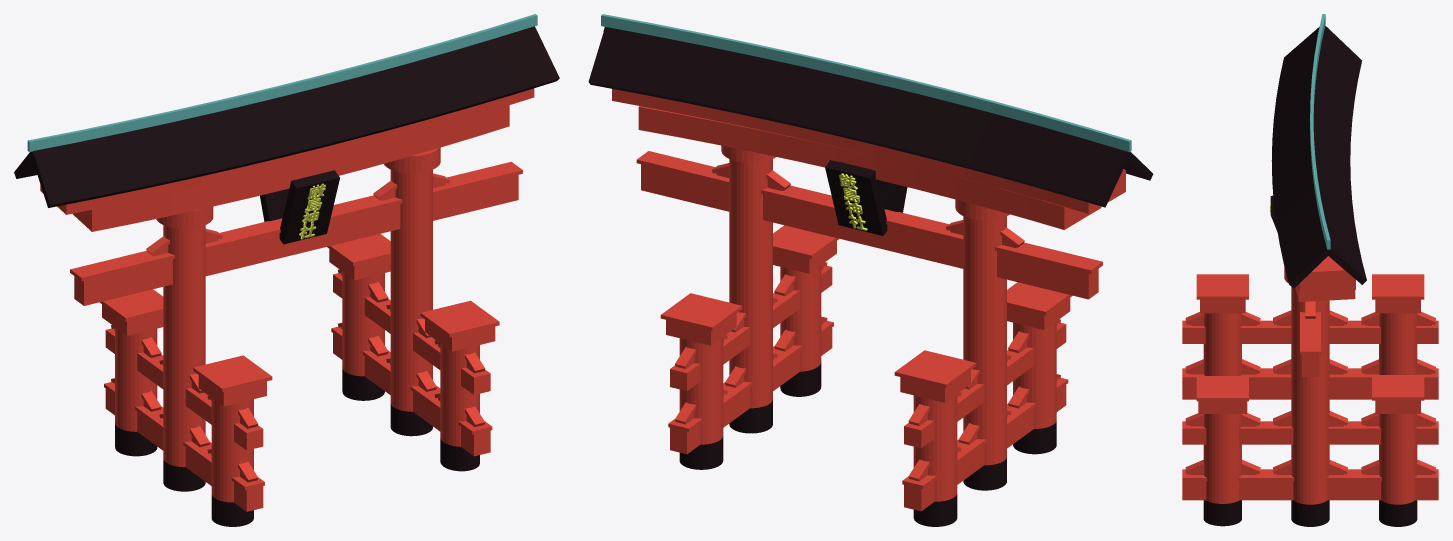
File: itsukushima.fbx
3 renders of one model, left to right at view 1: azimuth 30°, elevation 25°; view 2: azimuth 150°, elevation 25°; view 3: azimuth 270°, elevation 25°, orthographic. The views are drawn at different scales.
Parts seen in each view (by area): view 1: Cube.026, Cube.019, Cube.010, Cylinder.012, Cylinder.005, Cube.078, Cube.018, Cube.008, Cylinder.007, Cylinder.011, Cylinder.008, Cylinder.006 (+25 smaller); view 2: Cube.027, Cube.019, Cube.010, Cylinder.005, Cylinder.012, Cube.078, Cube.018, Cube.008, Cylinder.008, Cylinder.011, Cylinder.007, Cylinder.006 (+23 smaller); view 3: Cube.026, Cube.027, Cylinder.012, Cylinder.011, Cylinder.006, Cube.024, Cube.023, Cube.025, Cylinder.007, Cylinder.008, Cube.020, Cube.004 (+17 smaller).
Boxes of the visible parts, left/top/right/bottom form: Cube.026: left=32, top=26, right=559, bottom=207; Cube.019: left=72, top=105, right=509, bottom=231; Cube.010: left=74, top=175, right=518, bottom=305; Cylinder.012: left=390, top=170, right=432, bottom=411; Cylinder.005: left=163, top=225, right=205, bottom=467; Cube.078: left=27, top=14, right=537, bottom=151; Cube.018: left=40, top=88, right=534, bottom=214; Cube.008: left=70, top=161, right=522, bottom=281; Cylinder.007: left=211, top=398, right=253, bottom=502; Cylinder.011: left=342, top=272, right=384, bottom=376; Cylinder.008: left=115, top=327, right=157, bottom=431; Cylinder.006: left=440, top=343, right=479, bottom=446; Cube.027: left=588, top=27, right=1130, bottom=207; Cube.019: left=638, top=106, right=1101, bottom=229; Cube.010: left=641, top=164, right=1098, bottom=299; Cylinder.005: left=963, top=216, right=1006, bottom=465; Cylinder.012: left=729, top=159, right=772, bottom=408; Cube.078: left=601, top=14, right=1131, bottom=152; Cube.018: left=612, top=89, right=1125, bottom=213; Cube.008: left=636, top=151, right=1102, bottom=273; Cylinder.008: left=913, top=394, right=957, bottom=501; Cylinder.011: left=679, top=337, right=723, bottom=444; Cylinder.007: left=1013, top=321, right=1056, bottom=428; Cylinder.006: left=780, top=265, right=821, bottom=371; Cube.026: left=1271, top=27, right=1332, bottom=288; Cube.027: left=1313, top=26, right=1366, bottom=284; Cylinder.012: left=1291, top=287, right=1329, bottom=504; Cylinder.011: left=1379, top=414, right=1417, bottom=504; Cylinder.006: left=1203, top=414, right=1241, bottom=503; Cube.024: left=1182, top=421, right=1438, bottom=444; Cube.023: left=1182, top=481, right=1438, bottom=500; Cube.025: left=1182, top=320, right=1438, bottom=343; Cylinder.007: left=1203, top=313, right=1241, bottom=375; Cylinder.008: left=1379, top=313, right=1417, bottom=374; Cube.020: left=1182, top=380, right=1438, bottom=399; Cube.004: left=1372, top=375, right=1424, bottom=400.
Size of the model in its own units: 3065 by 2128 by 1461.
